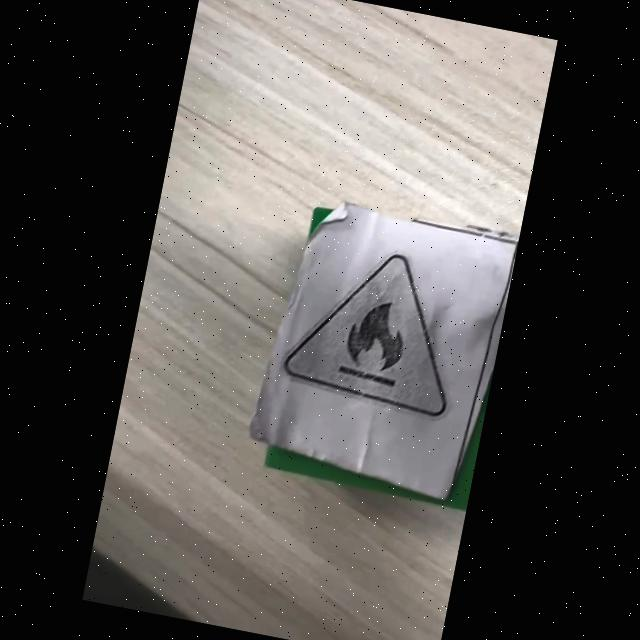Fire: (284, 255, 446, 418)
